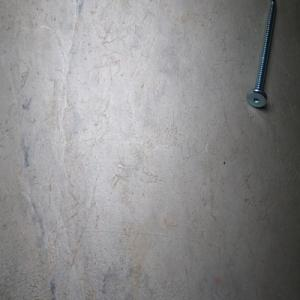Bolt: (246, 0, 276, 108)
